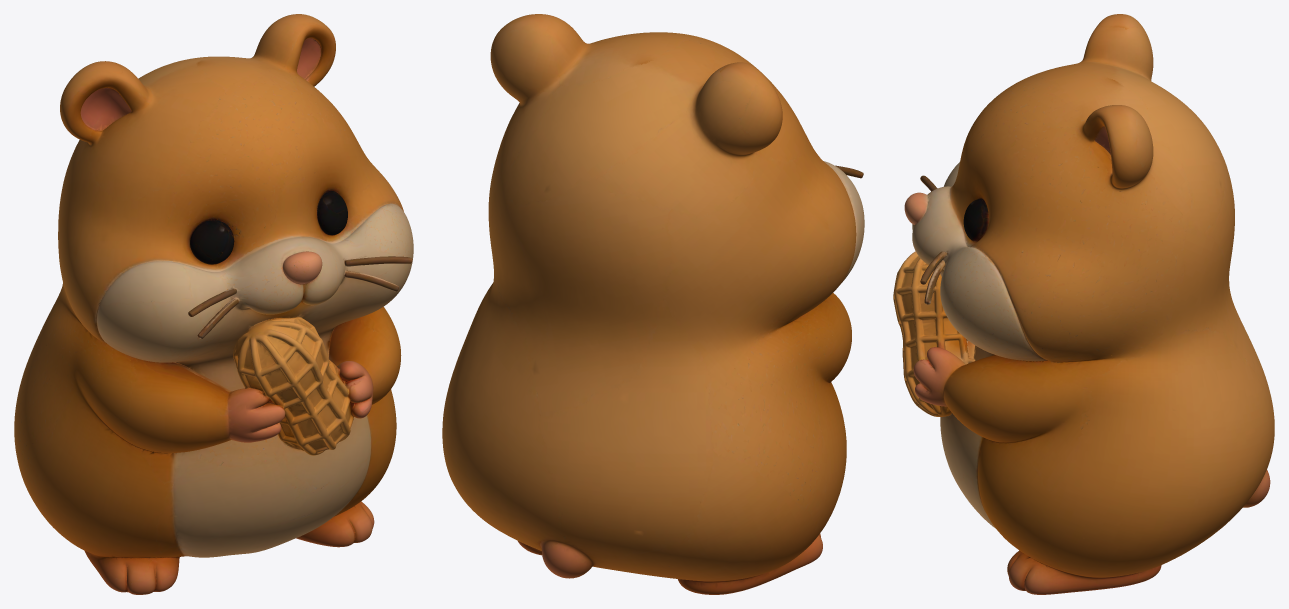
The model's file is chuot-hamster.glb.
3 renders of one model, left to right at view 1: azimuth 30°, elevation 25°; view 2: azimuth 150°, elevation 25°; view 3: azimuth 270°, elevation 25°, orthographic. The views are drawn at different scales.
Visible parts, largest first — view 1: texture_pbr_v128; view 2: texture_pbr_v128; view 3: texture_pbr_v128.
Part boxes in pixels (x1,y1,x2,y2): texture_pbr_v128: (14, 14, 413, 594); texture_pbr_v128: (442, 14, 864, 594); texture_pbr_v128: (893, 14, 1274, 594).
Size of the model in its own units: 0.7505 by 1.04 by 0.7634.
1 material, 1 textured.
